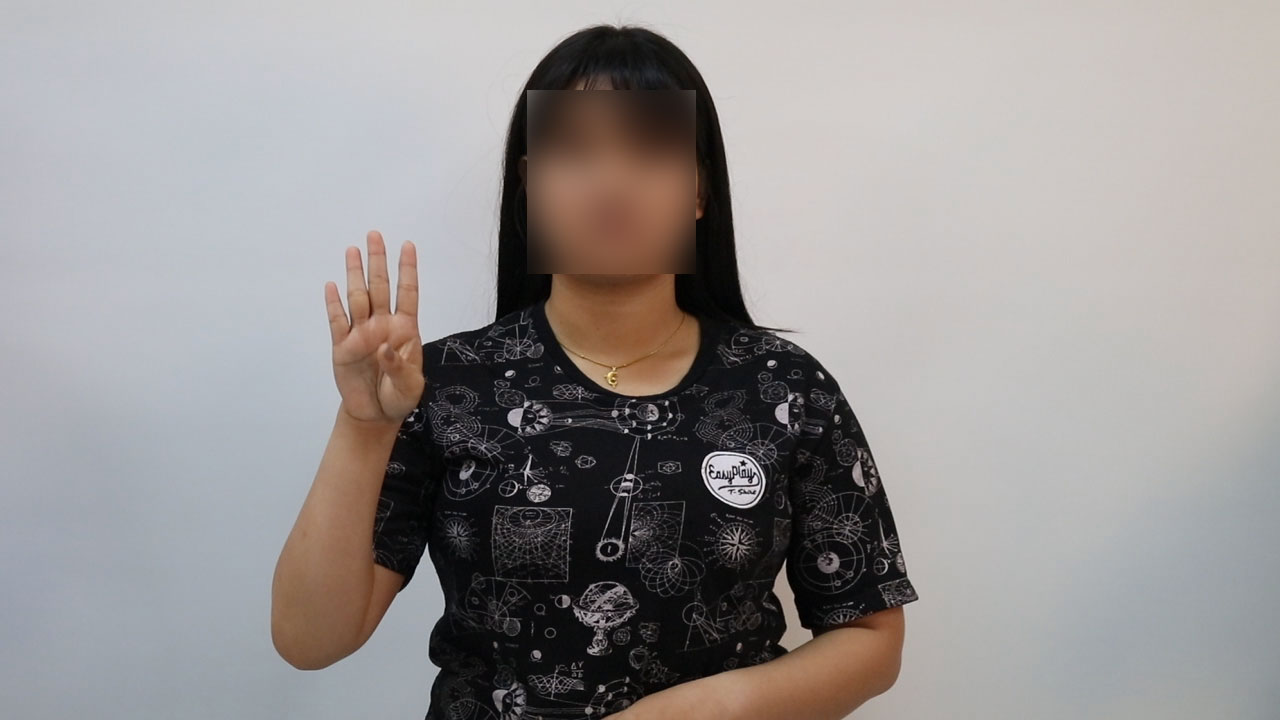bor: (315, 222, 434, 445)
